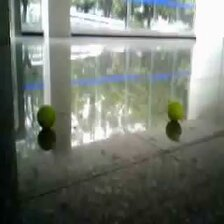tennis: (37, 104, 55, 126), (166, 100, 183, 120)
